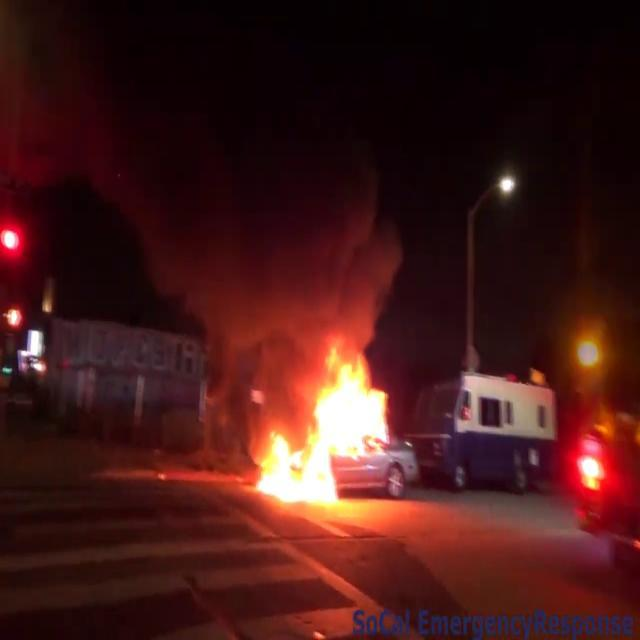Fire: (243, 334, 400, 510)
Smoke: (11, 1, 414, 374)
